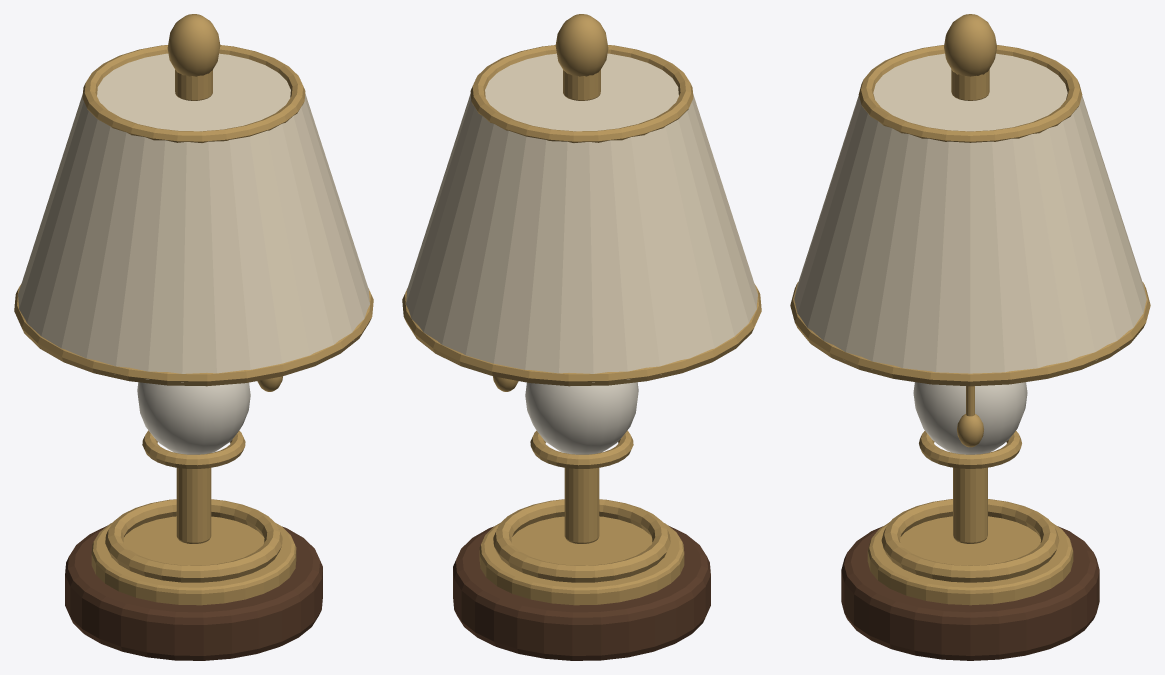
The model's file is table_lamp.glb.
3 views of the same model, side by side, from view 1: azimuth 30°, elevation 25°; view 2: azimuth 150°, elevation 25°; view 3: azimuth 270°, elevation 25° (orthographic).
Visible parts, largest first — view 1: BoutiqueTableLamp; view 2: BoutiqueTableLamp; view 3: BoutiqueTableLamp.
Boxes of the visible parts, x1,y1,x2,y2 form: BoutiqueTableLamp: (14,14,373,660); BoutiqueTableLamp: (402,14,761,660); BoutiqueTableLamp: (790,14,1150,660).
Bounding box in the file's own units: 0.474 × 0.862 × 0.474.
